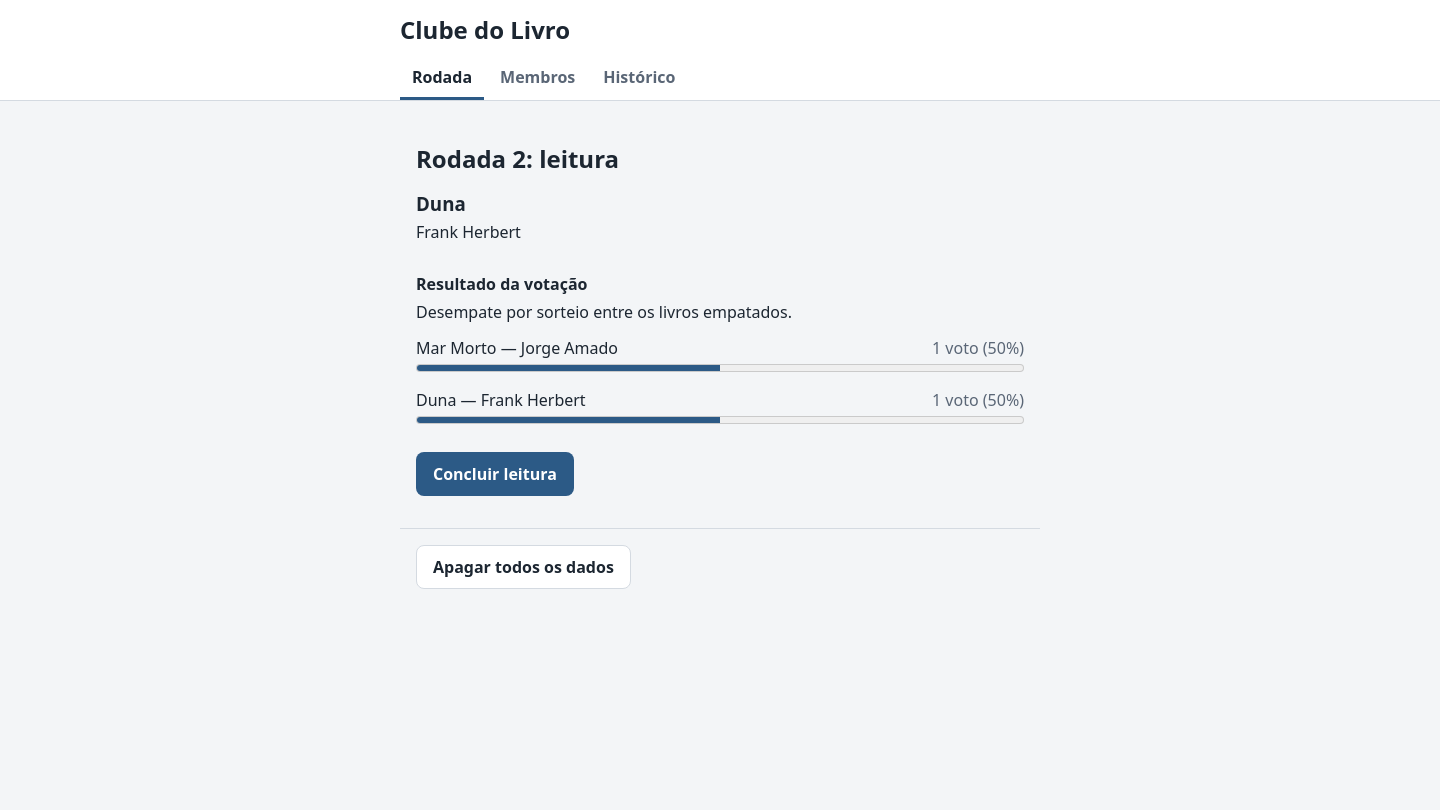
it: lista primeiro a última leitura concluída pelo usuário, com vencedor e resultado (R12, R13)
This screenshot has width=1440, height=810.
Click the button "Concluir leitura" at (495, 474), box [416,452,574,496]
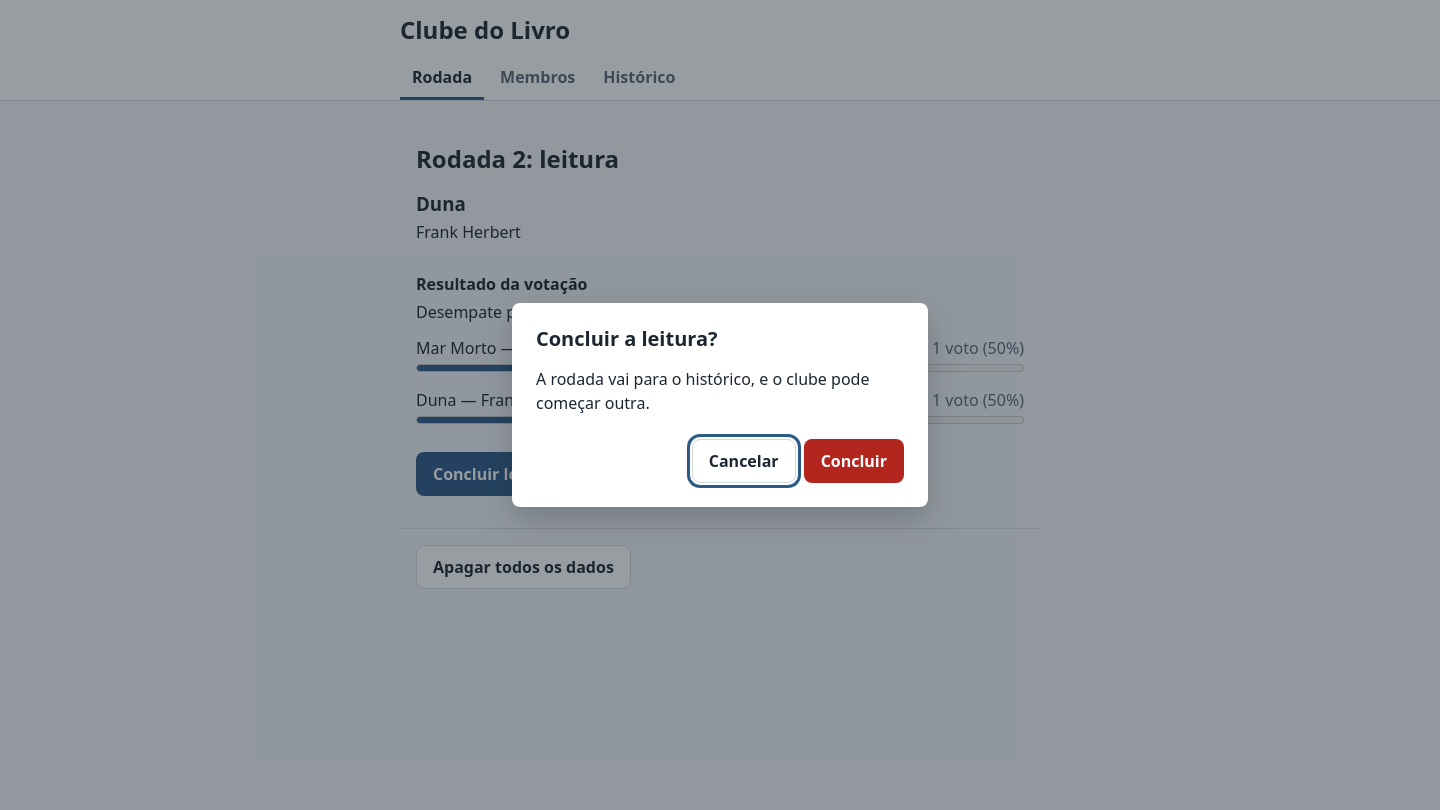
Click the button "Concluir" at (854, 461), box [804,439,904,483]
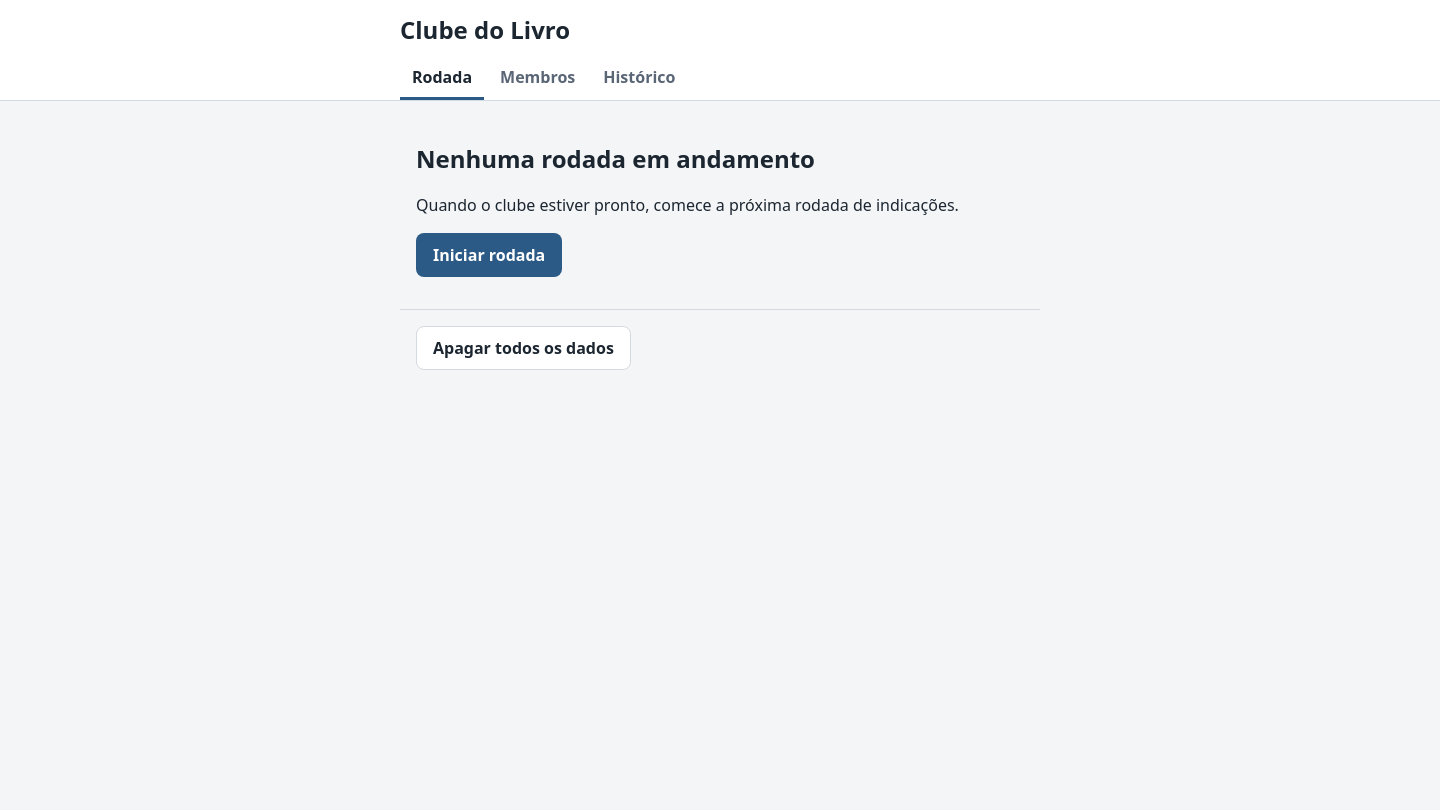
Click the link "Histórico" at (639, 77), box [603,66,676,88]
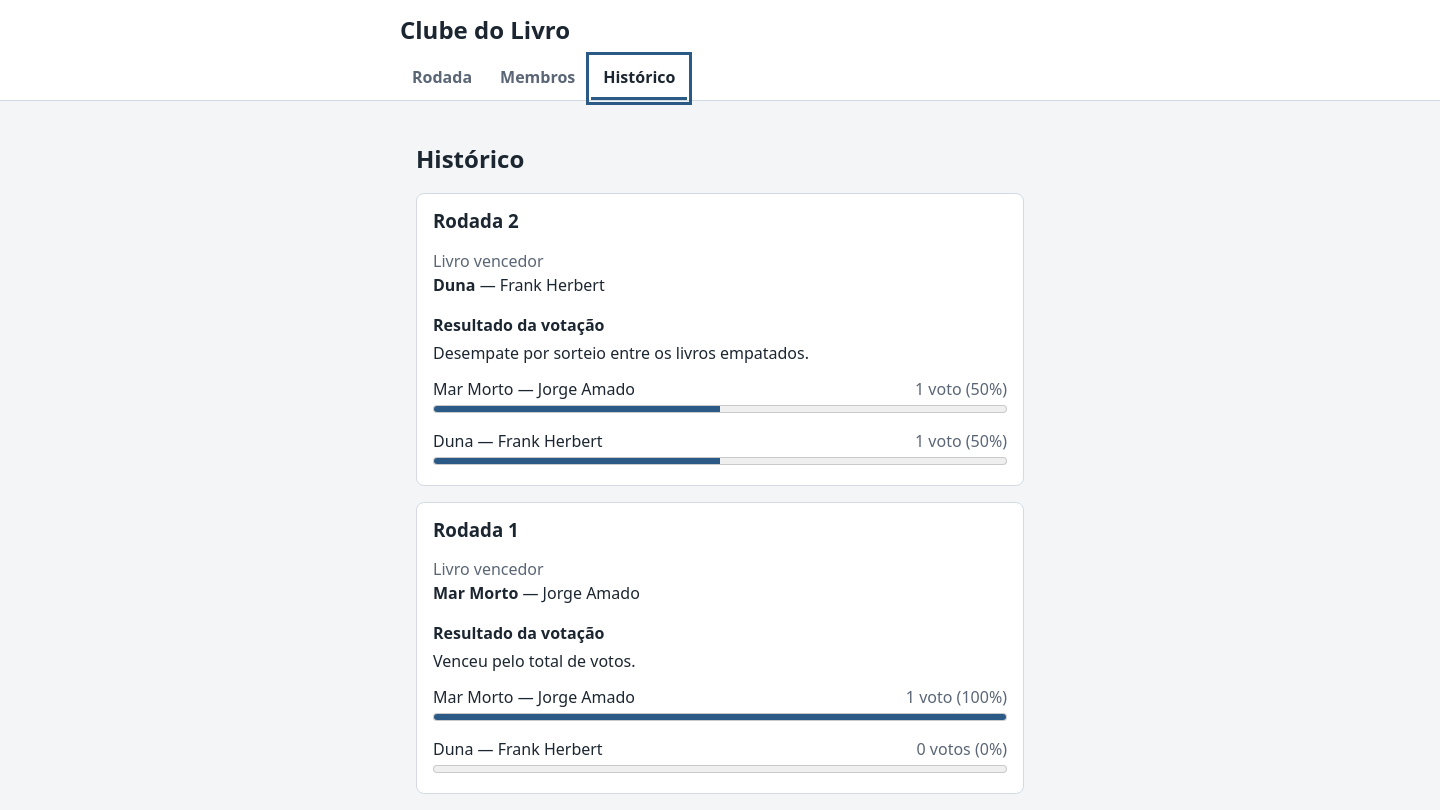
Result: the headings read "Rodada 2", "Rodada 1", in this order at [433,208,519,233]; [433,517,519,542]
Result: the element showing "Duna — Frank Herbert" is shown at [433,274,605,296]
Result: the element showing "Mar Morto — Jorge Amado" is shown at [433,582,640,604]
